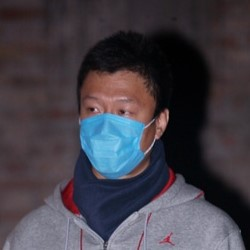mask: (76, 112, 149, 180)
